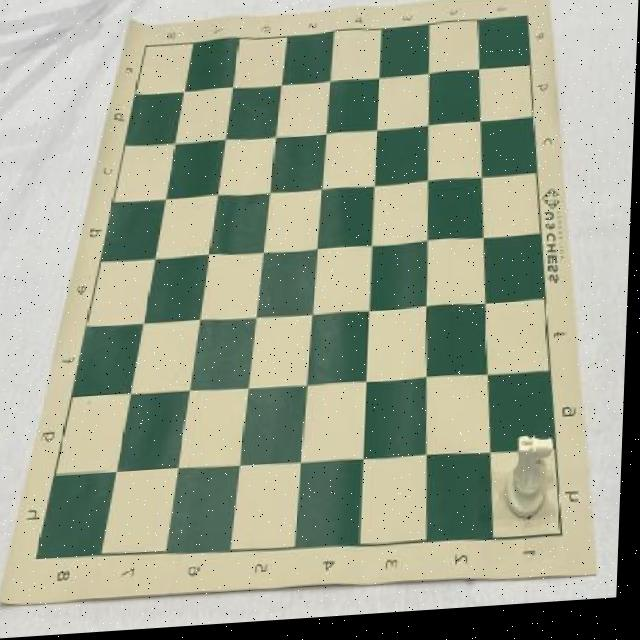white-king: (507, 442, 558, 529)
